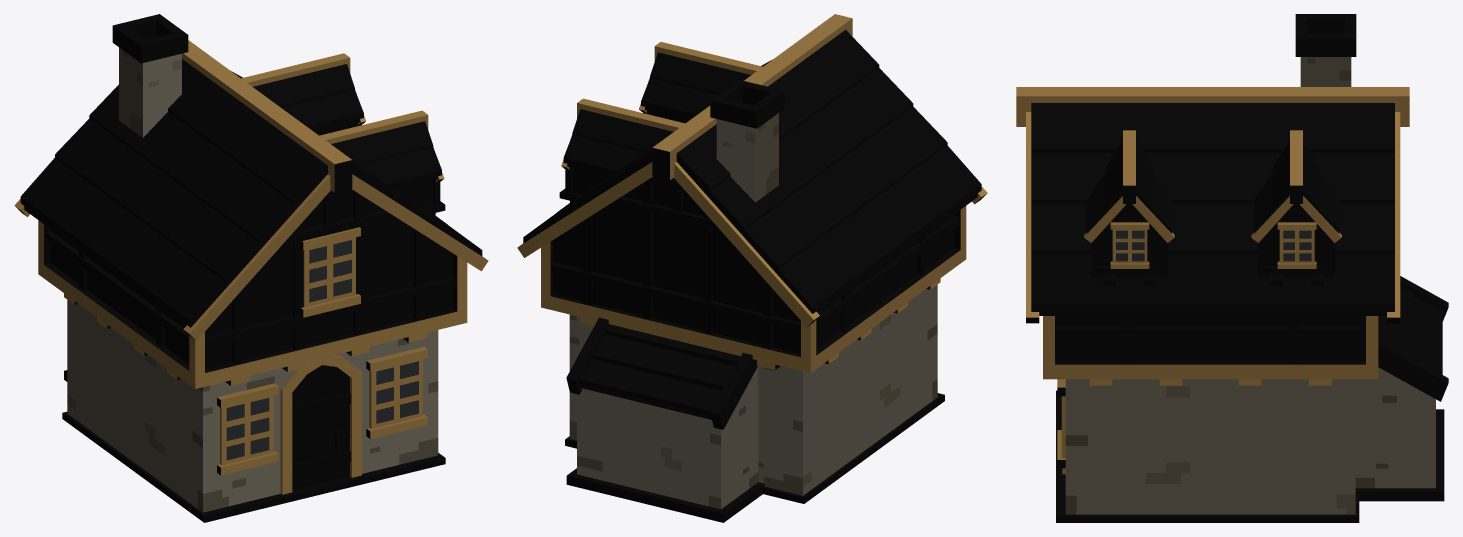
The model's file is House_Red_03.gltf.
3 views of the same model, side by side, from view 1: azimuth 30°, elevation 25°; view 2: azimuth 150°, elevation 25°; view 3: azimuth 270°, elevation 25° (orthographic). The views are drawn at different scales.
Visible parts, largest first — view 1: SF_Bld_House_Red_03; view 2: SF_Bld_House_Red_03; view 3: SF_Bld_House_Red_03.
Part boxes in pixels (x1,y1,x2,y2): SF_Bld_House_Red_03: (14, 14, 488, 522); SF_Bld_House_Red_03: (517, 14, 987, 522); SF_Bld_House_Red_03: (1016, 14, 1448, 522).
Size of the model in its own units: 0.0995 by 0.1217 by 0.1166.
Materials: 1 (1 with a texture image).
